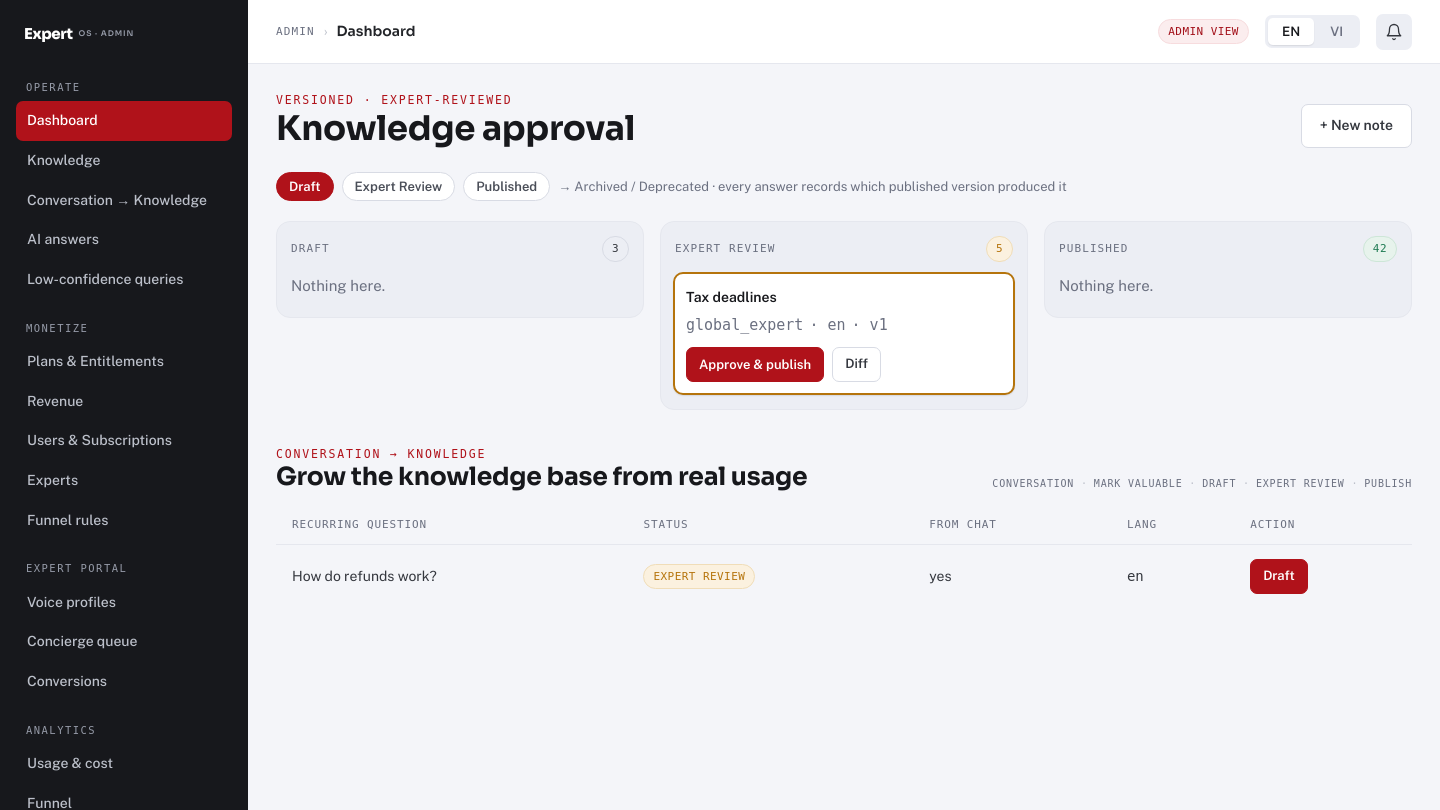
Test case: KnowledgeApprovalPage — approve action › surfaces an error badge when the approve transition fails
The image size is (1440, 810).
Click the button "Approve & publish" at [755, 365], box [686,348,824,382]
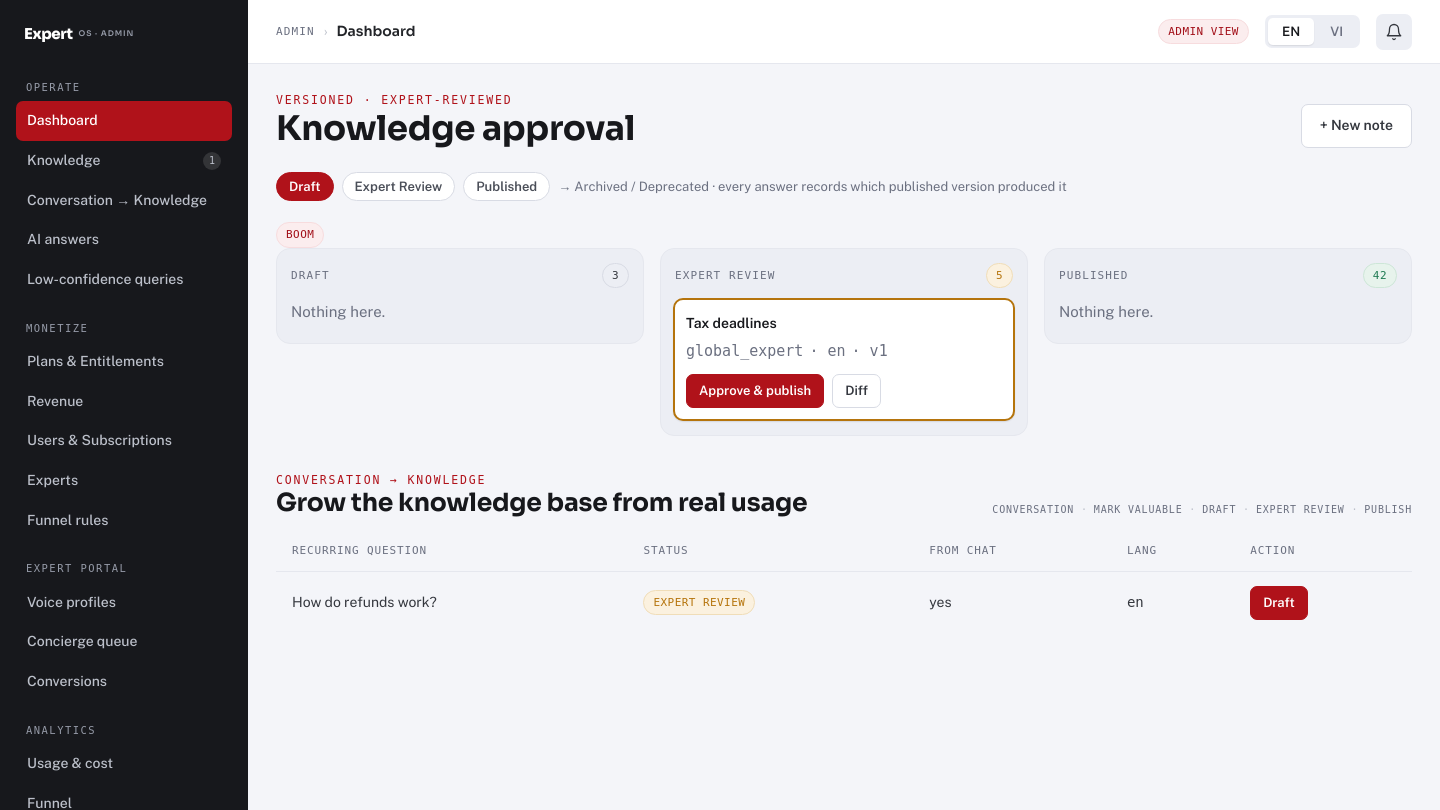
Expected: the text "Boom" is shown, [276,222,324,248]
